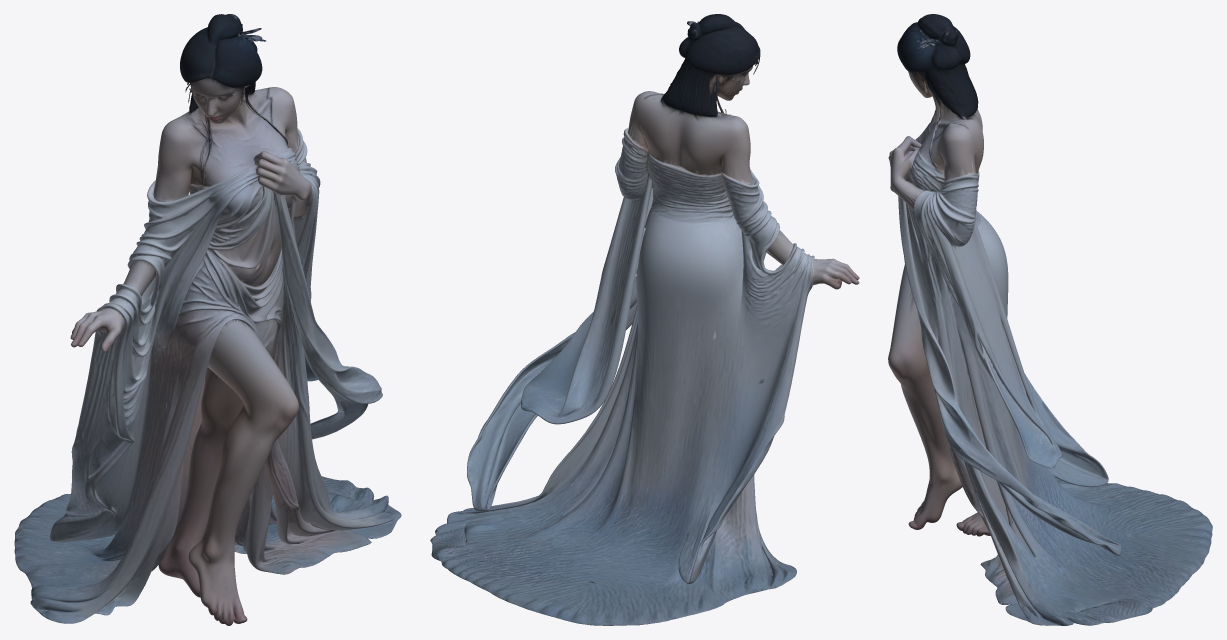
File: zzrws_web.glb
The picture shows the model from 3 angles, left to right: view 1: azimuth 30°, elevation 25°; view 2: azimuth 150°, elevation 25°; view 3: azimuth 270°, elevation 25°; orthographic projection. The views are drawn at different scales.
Parts seen in each view (by area): view 1: node_0; view 2: node_0; view 3: node_0.
Boxes of the visible parts, x1,y1,x2,y2 form: node_0: [14, 14, 401, 625]; node_0: [430, 14, 859, 625]; node_0: [888, 14, 1212, 625].
Size of the model in its own units: 0.6873 by 0.9811 by 0.5656.
Materials: 1 (1 with a texture image).
